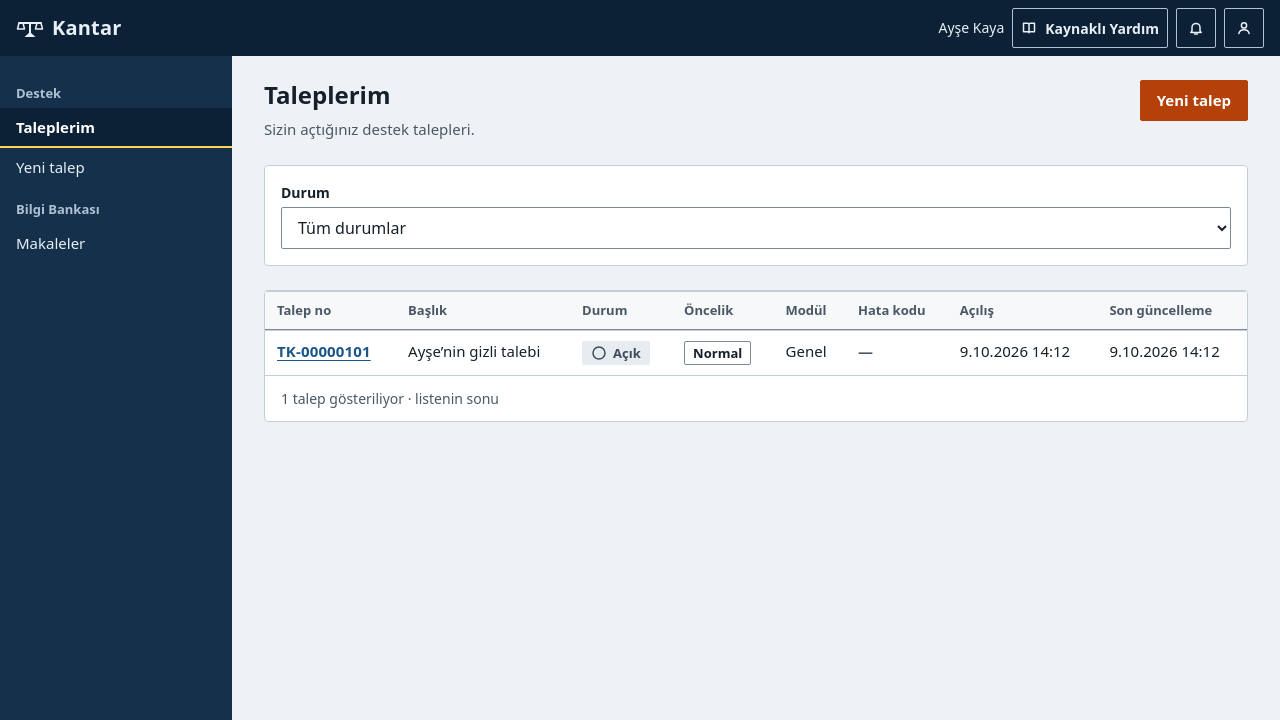
Scenario: oturum ve önbellek yalıtımı › çıkış isteği sunucuya ulaşmazsa bunu açıkça söyler
Check: the text "Ayşe’nin gizli talebi" is shown, box top-left (396, 330), bottom-right (570, 375)
Click the button named "Kullanıcı menüsü: Ayşe Kaya".
click(1244, 28)  # box top-left (1224, 8), bottom-right (1264, 48)
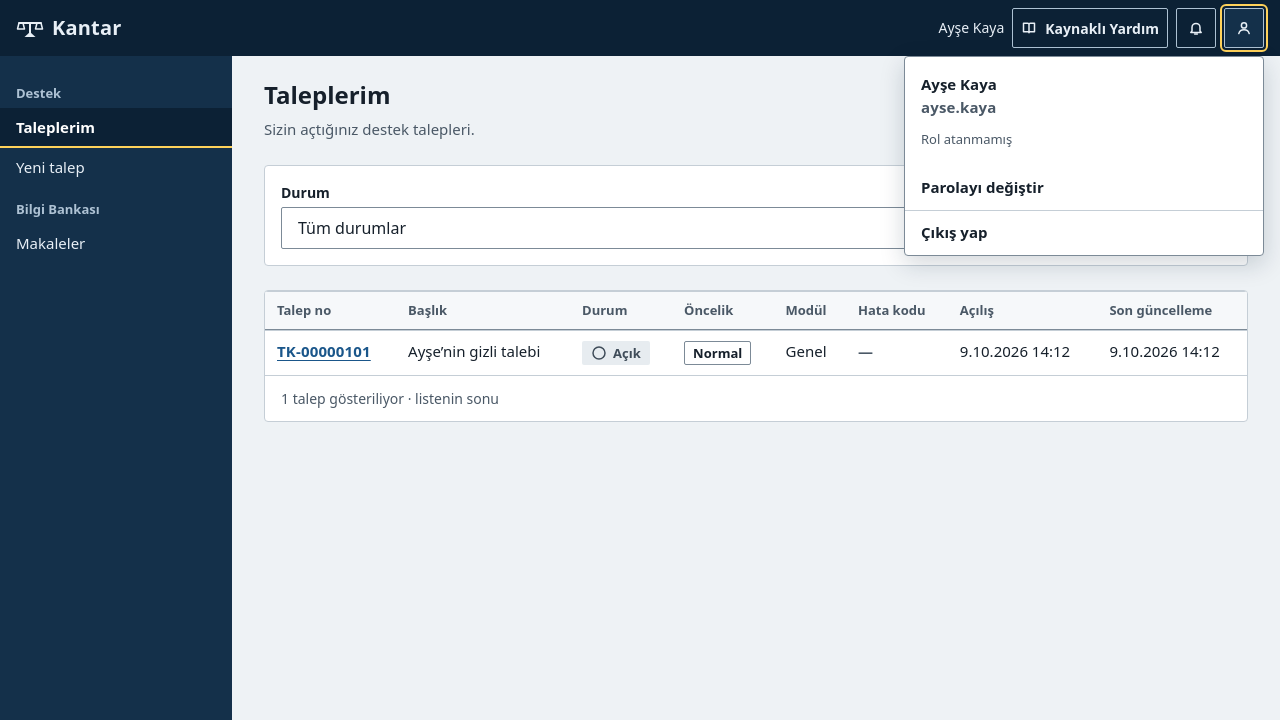
Click the button "Çıkış yap".
click(954, 232)  # box top-left (905, 210), bottom-right (1263, 254)
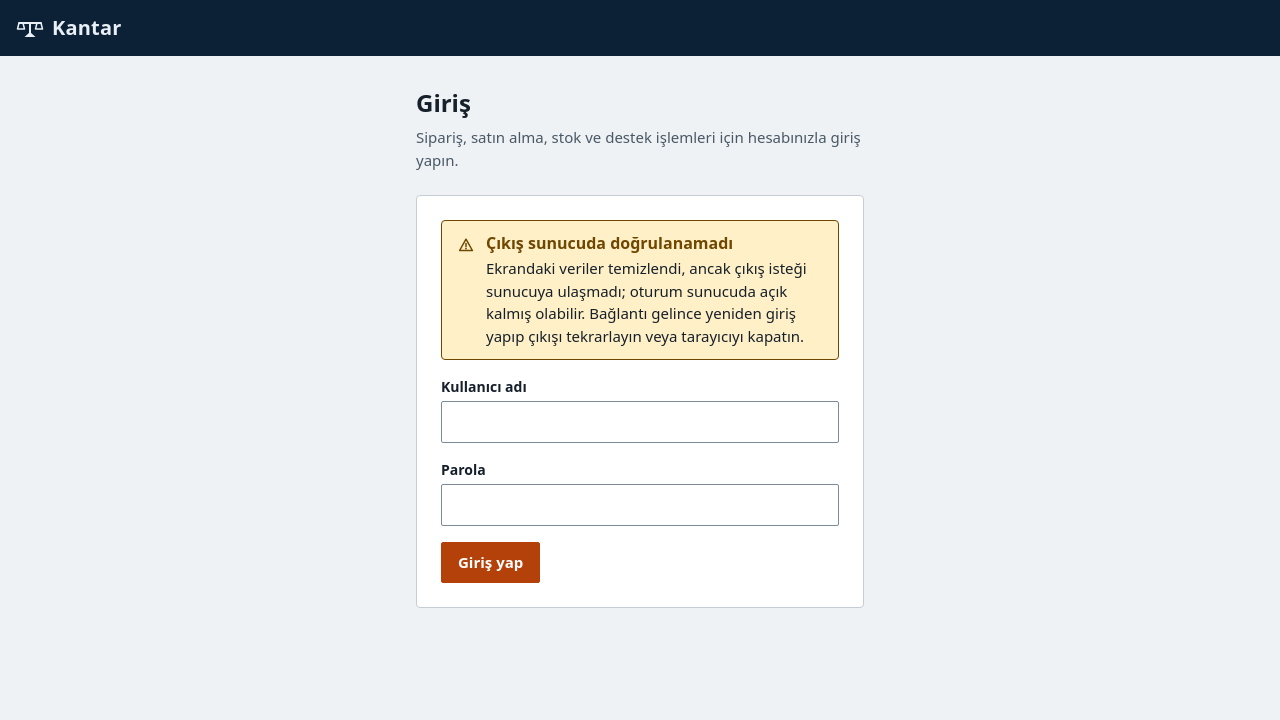
Check: the heading "Çıkış sunucuda doğrulanamadı" is shown, box top-left (486, 232), bottom-right (733, 254)
Check: the text "Ayşe’nin gizli talebi" is gone
